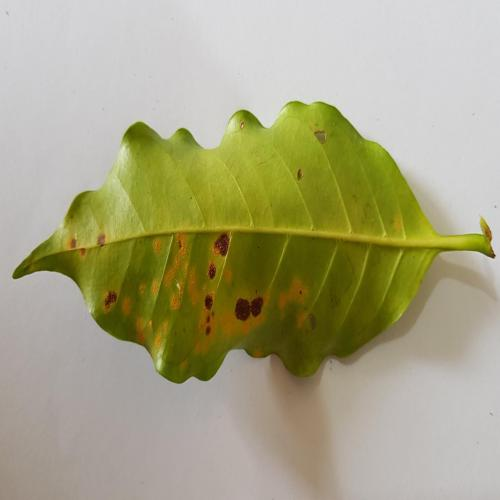phoma: (207, 230, 229, 279)
